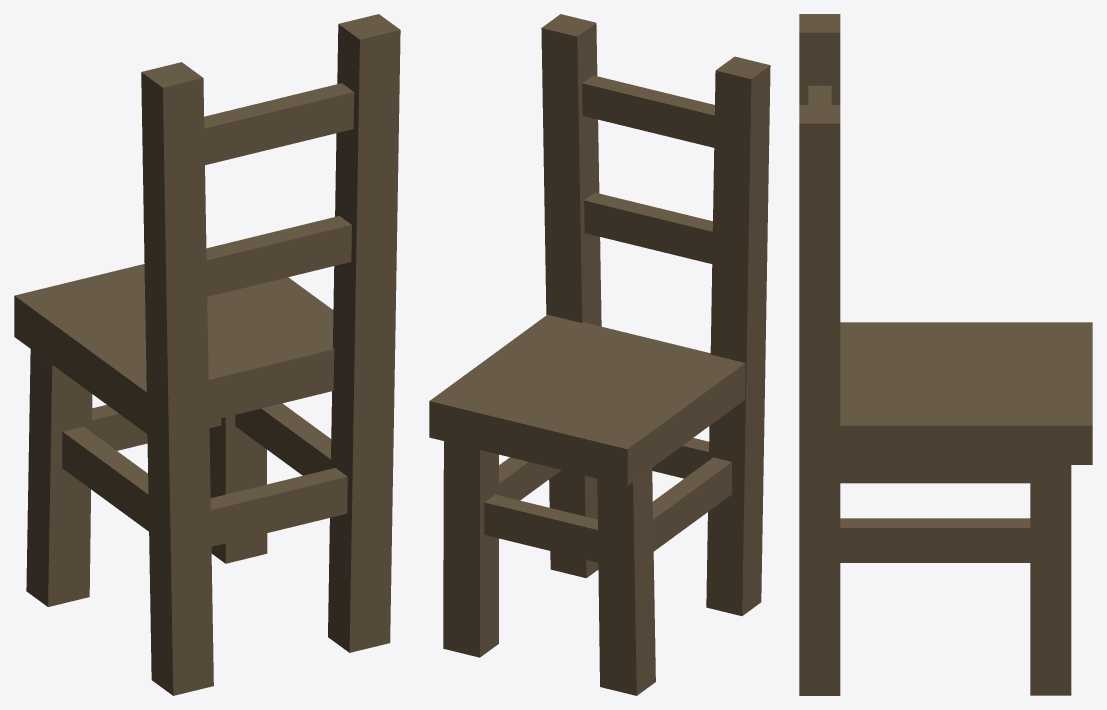
The model's file is Chair_02.glb.
3 views of the same model, side by side, from view 1: azimuth 30°, elevation 25°; view 2: azimuth 150°, elevation 25°; view 3: azimuth 270°, elevation 25° (orthographic). The views are drawn at different scales.
Parts seen in each view (by area): view 1: Chair_02; view 2: Chair_02; view 3: Chair_02.
Boxes of the visible parts, left/top/right/bottom form: Chair_02: left=14, top=14, right=400, bottom=695; Chair_02: left=429, top=14, right=770, bottom=695; Chair_02: left=799, top=14, right=1092, bottom=695.
Size of the model in its own units: 0.7223 by 1.77 by 0.8169.
